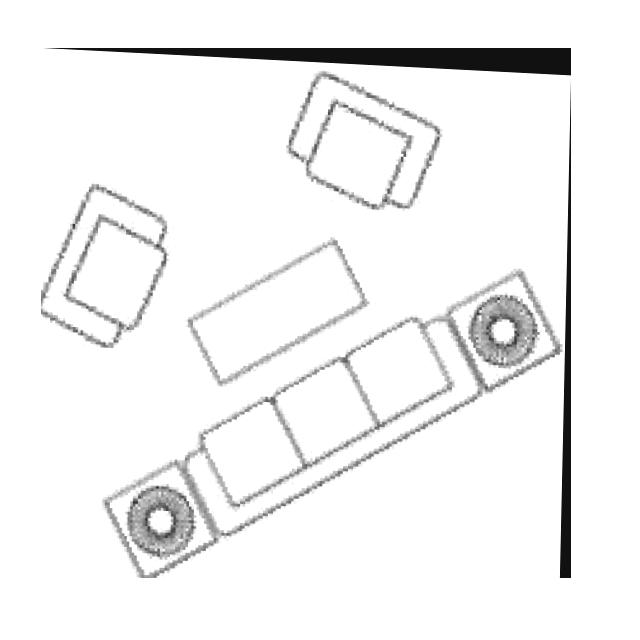sofa: (41, 48, 571, 578)
